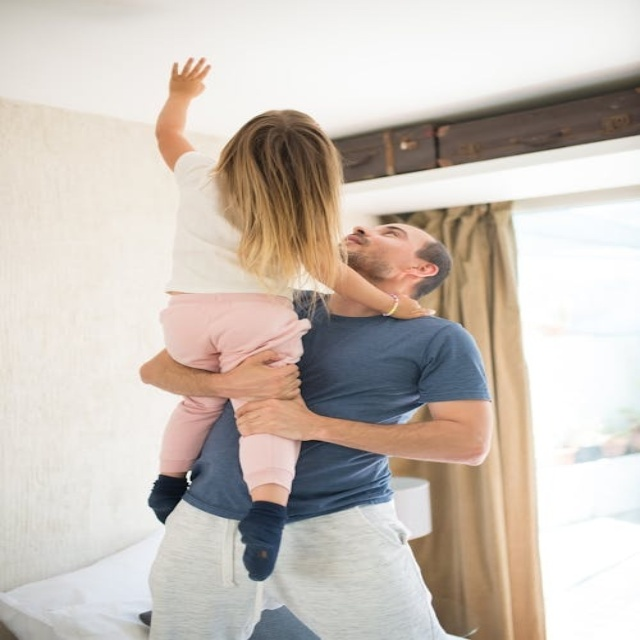Sin_gafas: (372, 223, 426, 245)
Sin_guantes: (209, 348, 305, 402), (233, 394, 315, 441), (157, 49, 211, 100), (375, 285, 440, 323)
Sin_mascara: (338, 232, 375, 257)
